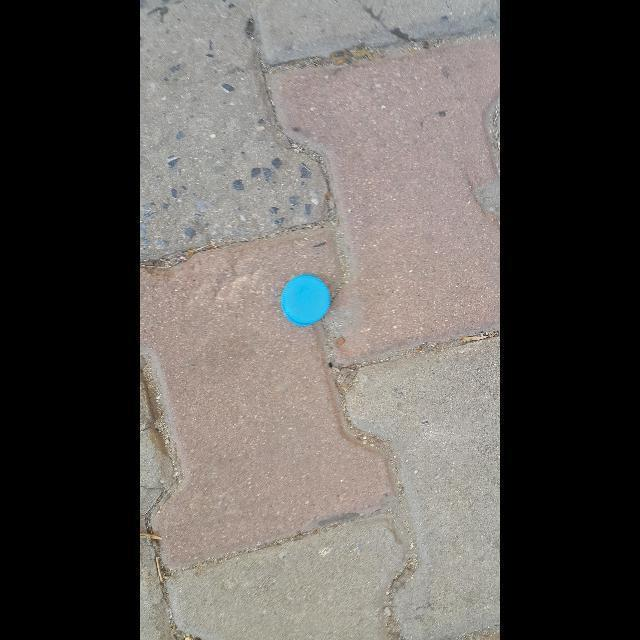Plastic: (282, 274, 331, 326)
